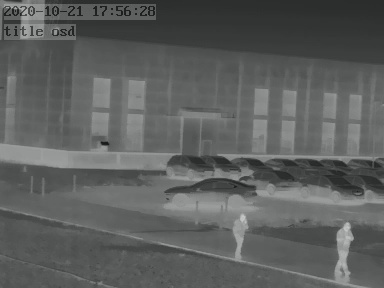person: (333, 221, 354, 276), (231, 213, 250, 259)
vehicle: (163, 178, 252, 206), (303, 173, 362, 202), (241, 171, 303, 194), (163, 152, 209, 178), (202, 154, 241, 177), (356, 173, 384, 204), (231, 154, 270, 171), (260, 155, 295, 169), (348, 156, 380, 170), (295, 155, 324, 169), (318, 156, 347, 169)
